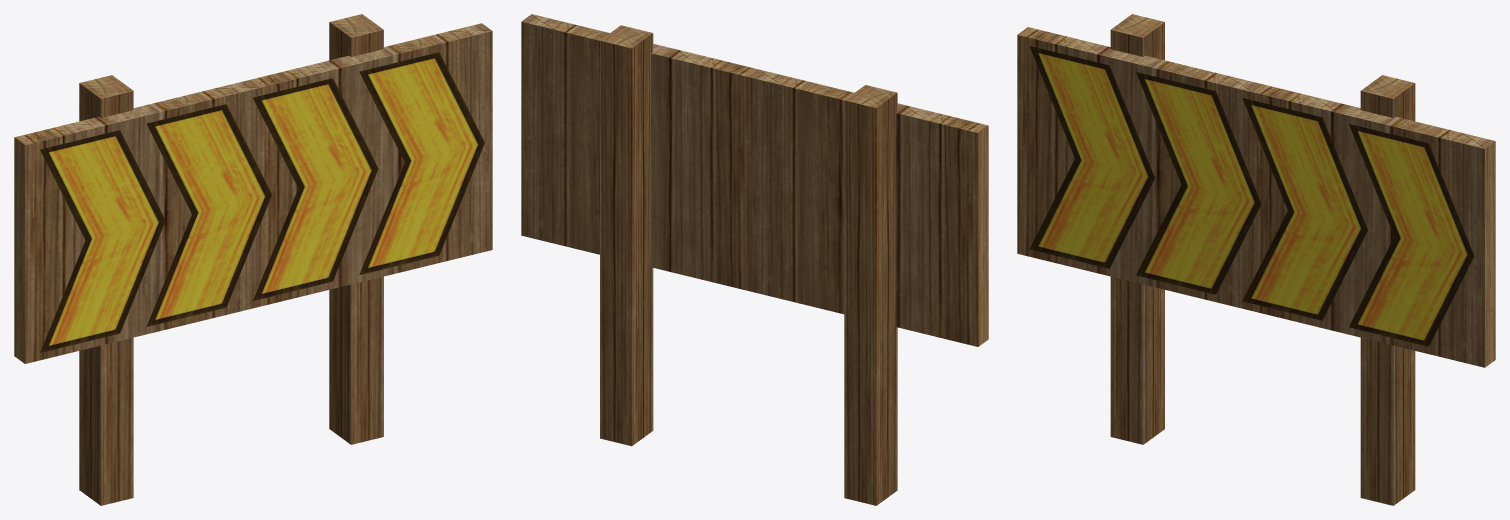
The model's file is DirectionSignsR.FBX.
3 views of the same model, side by side, from view 1: azimuth 30°, elevation 25°; view 2: azimuth 150°, elevation 25°; view 3: azimuth 330°, elevation 25° (orthographic). The views are drawn at different scales.
Visible parts, largest first — view 1: DirectionSignsR; view 2: DirectionSignsR; view 3: DirectionSignsR.
Boxes of the visible parts, x1,y1,x2,y2 form: DirectionSignsR: [14, 14, 492, 505]; DirectionSignsR: [521, 14, 988, 505]; DirectionSignsR: [1017, 14, 1495, 505].
Size of the model in its own units: 224 by 186 by 26.27.
